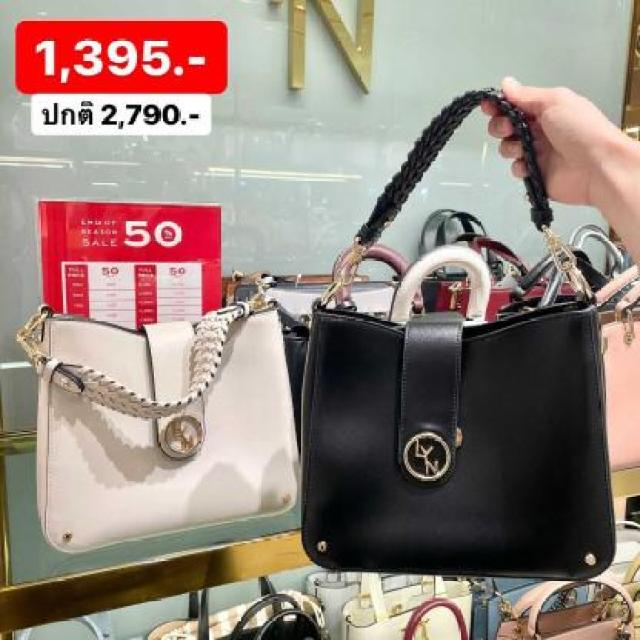Bag: (240, 52, 622, 618), (0, 190, 303, 582)
